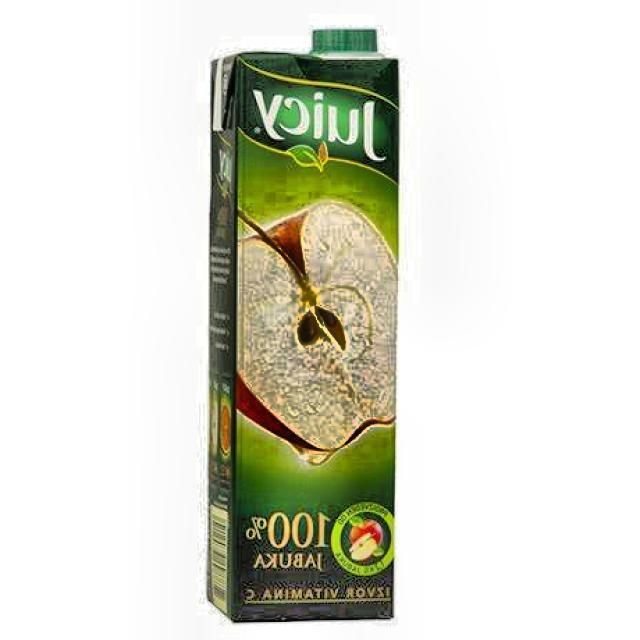cardboard: (206, 29, 401, 622)
